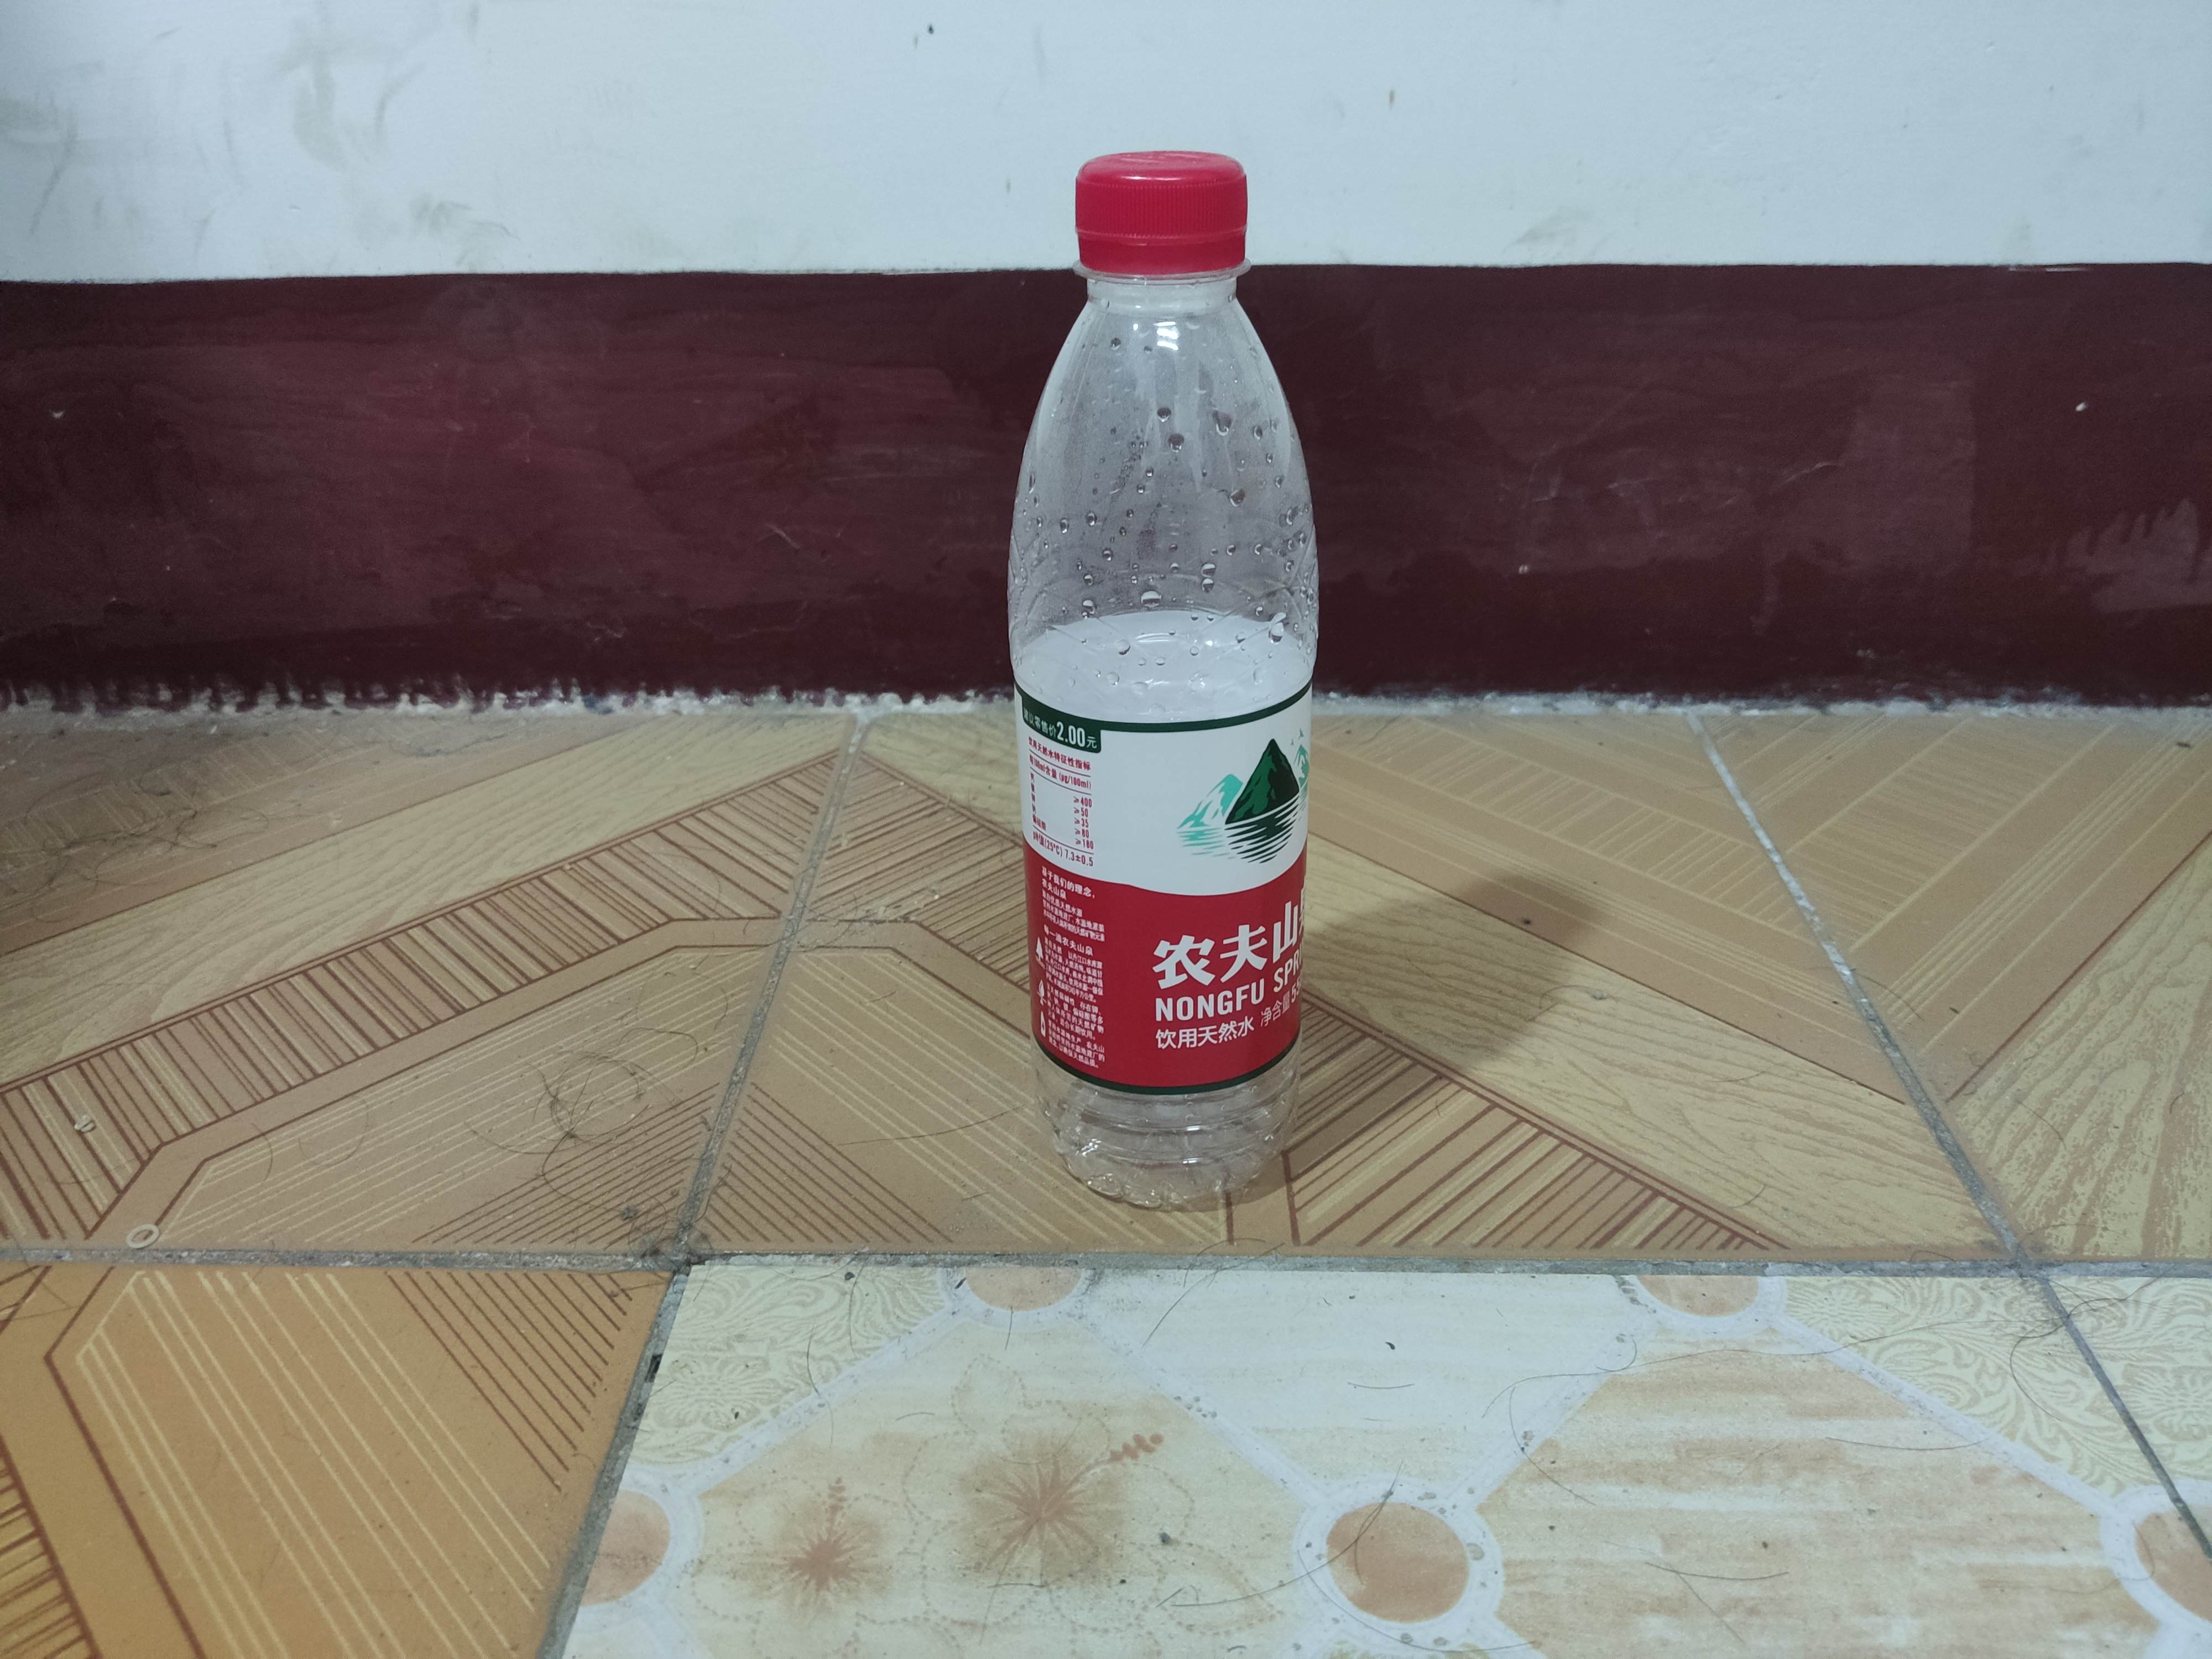Plastic Bottle: (998, 146, 1329, 1218)
